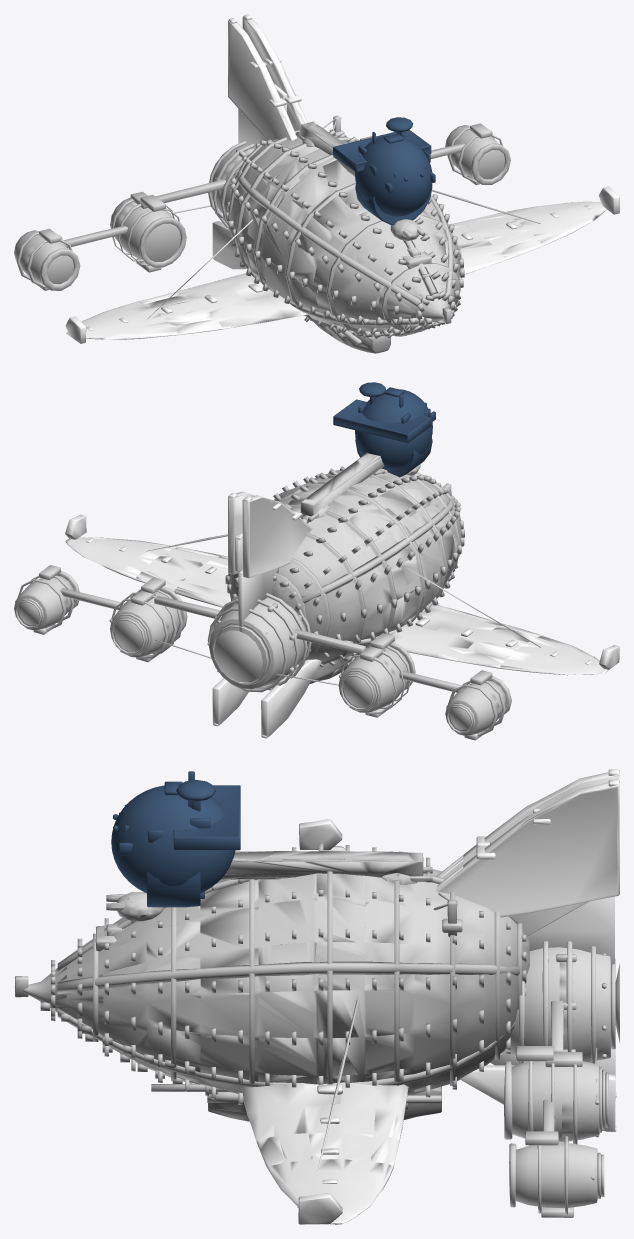
File: ship.glb
3 renders of one model, top to bottom at view 1: azimuth 30°, elevation 25°; view 2: azimuth 150°, elevation 25°; view 3: azimuth 270°, elevation 25°, orthographic. The views are drawn at different scales.
Visible parts, largest first — view 1: VR_Ship_Hull, VR_Ship_Wings, VR_Ship_Engine, VR_Ship_Fin, VR_Ship_Cockpit; view 2: VR_Ship_Hull, VR_Ship_Engine, VR_Ship_Wings, VR_Ship_Fin, VR_Ship_Nozzle, VR_Ship_Cockpit; view 3: VR_Ship_Hull, VR_Ship_Engine, VR_Ship_Fin, VR_Ship_Wings, VR_Ship_Cockpit, VR_Ship_Nozzle.
Part boxes in pixels (box(x1,y1,x2,y2)): VR_Ship_Hull: box(225, 115, 464, 353); VR_Ship_Wings: box(65, 186, 619, 343); VR_Ship_Engine: box(14, 123, 510, 290); VR_Ship_Fin: box(212, 14, 307, 269); VR_Ship_Cockpit: box(333, 117, 435, 225); VR_Ship_Hull: box(225, 452, 464, 683); VR_Ship_Engine: box(14, 565, 511, 740); VR_Ship_Wings: box(65, 514, 619, 675); VR_Ship_Fin: box(212, 491, 321, 738); VR_Ship_Nozzle: box(15, 598, 476, 733); VR_Ship_Cockpit: box(333, 382, 435, 477); VR_Ship_Hull: box(14, 843, 529, 1121); VR_Ship_Engine: box(500, 941, 610, 1217); VR_Ship_Fin: box(436, 769, 619, 1131); VR_Ship_Wings: box(241, 819, 408, 1224); VR_Ship_Cockpit: box(111, 771, 240, 907); VR_Ship_Nozzle: box(591, 953, 619, 1204).
Bounding box in the file's own units: 4.01 × 1.7 × 2.72.
